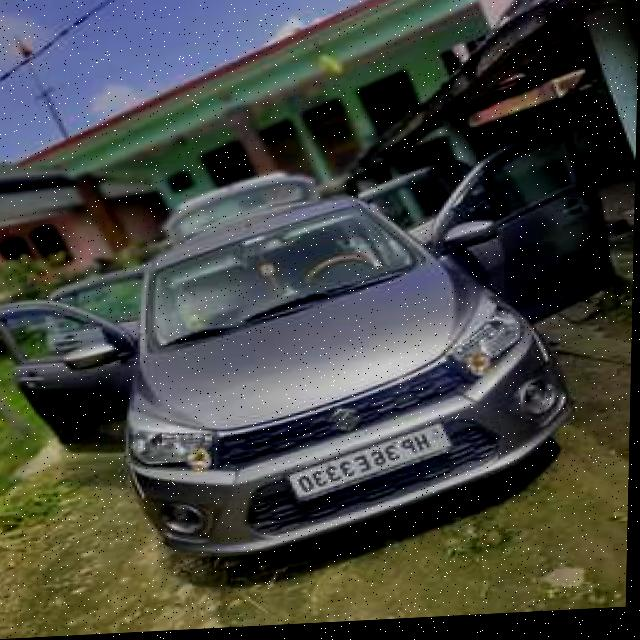plate: (288, 428, 454, 510)
